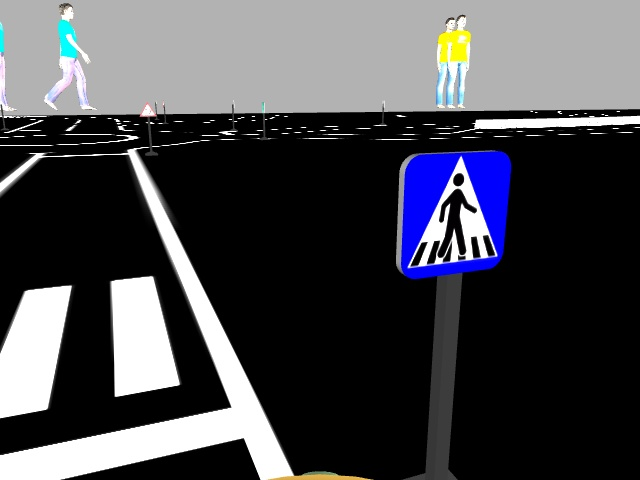Crosswalk: (392, 151, 517, 277)
